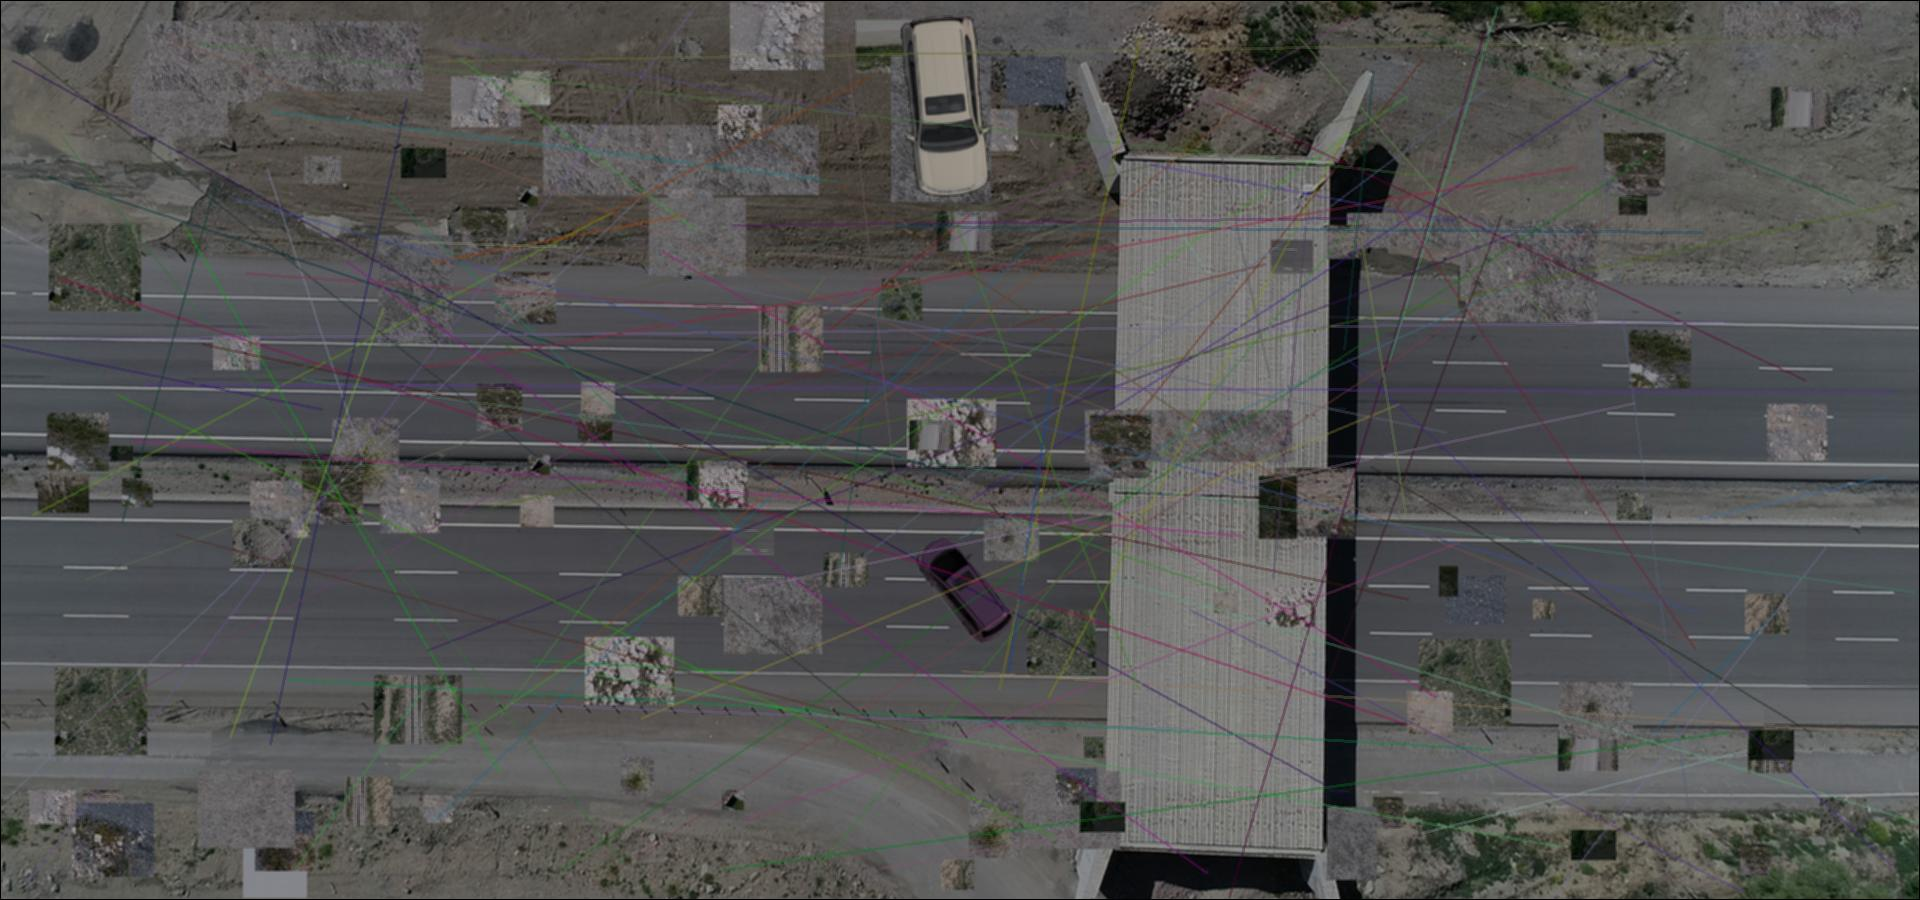arac: (889, 9, 994, 201), (916, 536, 1013, 644)
